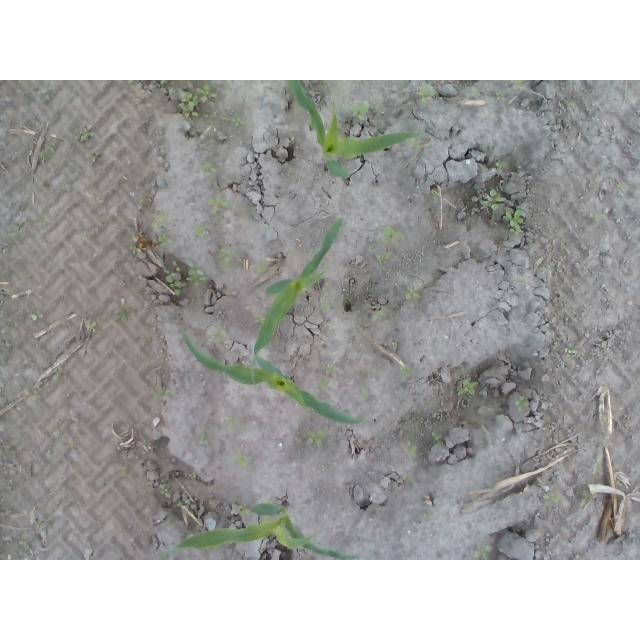Maize: (176, 324, 364, 428), (251, 215, 346, 383), (284, 81, 423, 185), (156, 492, 364, 561)
Weeds: (177, 85, 217, 120), (150, 207, 179, 249), (317, 363, 339, 394), (479, 187, 506, 210), (503, 207, 526, 233), (415, 84, 437, 106), (186, 262, 207, 285), (303, 430, 328, 449), (217, 247, 235, 273), (32, 80, 52, 102), (208, 196, 230, 216), (455, 377, 478, 396), (472, 541, 494, 560), (408, 138, 425, 162), (200, 158, 219, 178), (208, 322, 225, 344), (382, 226, 402, 244), (351, 102, 369, 121), (403, 286, 421, 304), (376, 253, 394, 271), (40, 143, 57, 162), (232, 452, 250, 469), (224, 413, 241, 431), (400, 437, 417, 455), (590, 454, 606, 472), (579, 492, 593, 511), (514, 395, 528, 414), (193, 224, 209, 240), (79, 129, 97, 143), (168, 277, 181, 296), (543, 492, 562, 505), (495, 159, 512, 173), (128, 244, 144, 258), (368, 308, 385, 321), (430, 430, 443, 447), (116, 303, 128, 321), (253, 259, 267, 274), (157, 484, 171, 498), (296, 403, 309, 418), (400, 366, 417, 377), (159, 386, 170, 403), (25, 390, 39, 403), (319, 303, 337, 313), (511, 80, 528, 90), (494, 90, 507, 103), (423, 503, 433, 519), (199, 431, 209, 445), (177, 500, 192, 509), (359, 389, 370, 401), (565, 348, 577, 359), (238, 503, 250, 514), (231, 116, 241, 129), (87, 321, 97, 334), (65, 440, 76, 451), (159, 178, 170, 188), (592, 212, 601, 224), (30, 312, 42, 321), (256, 311, 265, 323), (431, 191, 441, 201), (287, 135, 296, 146), (175, 264, 184, 273), (392, 340, 401, 348), (190, 472, 198, 481), (289, 247, 296, 257)
